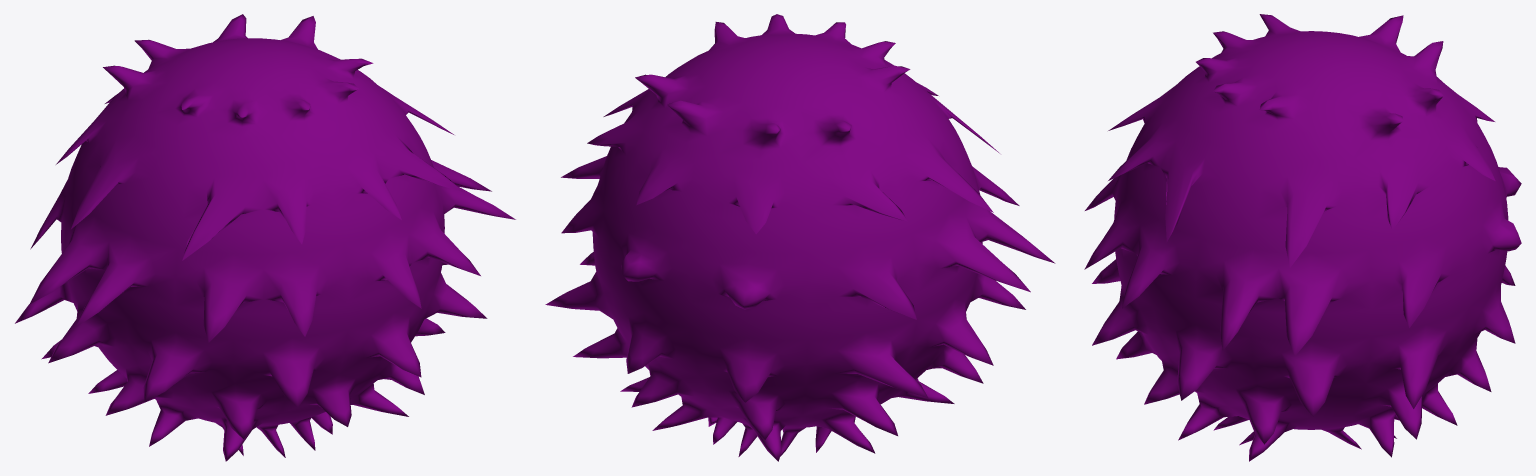
The model's file is Sea urchin.fbx.
3 renders of one model, left to right at view 1: azimuth 30°, elevation 25°; view 2: azimuth 150°, elevation 25°; view 3: azimuth 270°, elevation 25°, orthographic. The views are drawn at different scales.
Parts seen in each view (by area): view 1: pSphere1; view 2: pSphere1; view 3: pSphere1.
Part boxes in pixels (box(x1,y1,x2,y2)): pSphere1: box(15, 14, 515, 461); pSphere1: box(545, 14, 1055, 461); pSphere1: box(1084, 14, 1521, 461).
Size of the model in its own units: 2.74 by 2.06 by 2.18.
